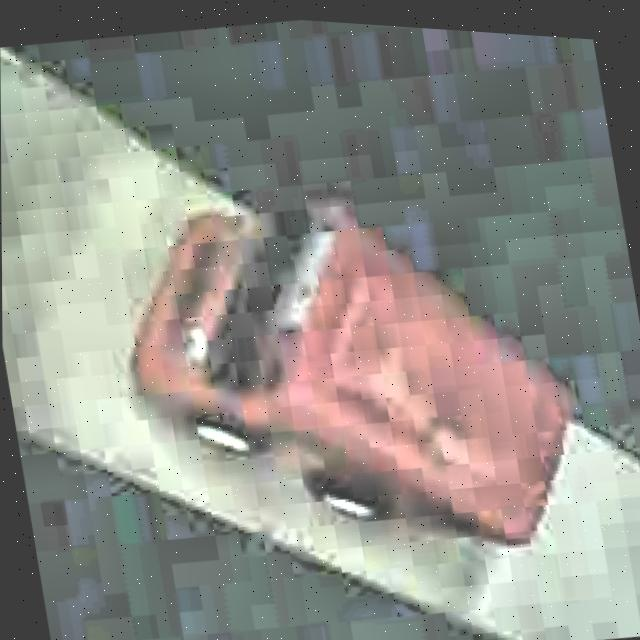bus: (103, 152, 600, 614)
